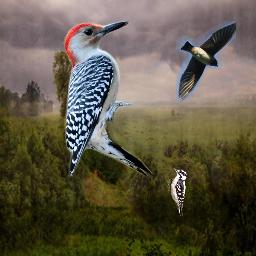Swallow: (176, 21, 236, 101)
Woodpecker: (56, 14, 162, 190), (168, 168, 187, 217)
